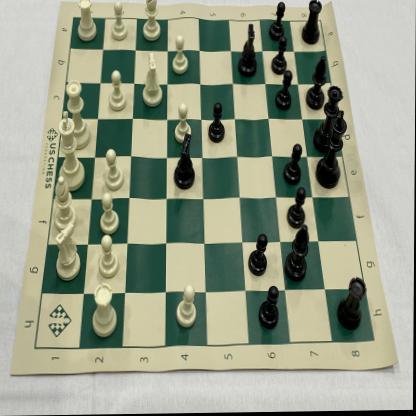black-bishop: (286, 226, 309, 284), (305, 55, 327, 112)
black-king: (316, 110, 346, 190)
black-knight: (172, 135, 196, 190), (238, 22, 258, 79)
black-pawn: (258, 284, 280, 332), (247, 233, 268, 279), (282, 144, 303, 186), (287, 189, 307, 231), (274, 69, 293, 111), (268, 0, 286, 40), (208, 101, 224, 145), (272, 39, 288, 75)
black-queen: (315, 87, 343, 153)
white-bishop: (52, 175, 78, 233), (141, 0, 163, 43)
white-king: (55, 109, 86, 192)
white-knight: (53, 223, 84, 281), (141, 52, 164, 108)
white-pawn: (96, 235, 121, 279), (176, 284, 198, 330), (104, 148, 125, 192), (100, 192, 120, 234), (110, 0, 129, 44), (108, 69, 127, 112), (174, 103, 192, 144), (171, 36, 189, 76)
white-queen: (61, 79, 92, 150)
white-rook: (336, 275, 366, 333), (90, 283, 118, 339), (74, 0, 98, 43), (302, 0, 322, 48)
